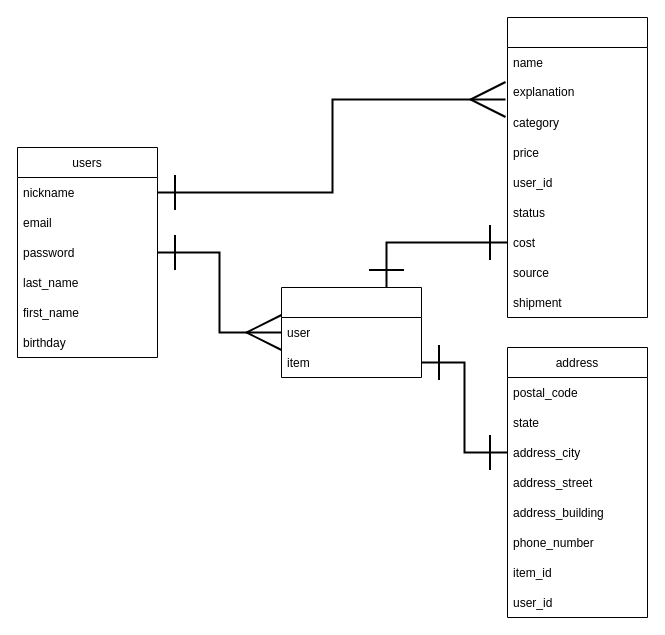
This 665x635 diagram has some shape labels left out. The box of each missing label's shape, as (x1, y1, x2, y2) in pixels:
buys: (280, 286, 422, 378)
items: (506, 16, 648, 318)
